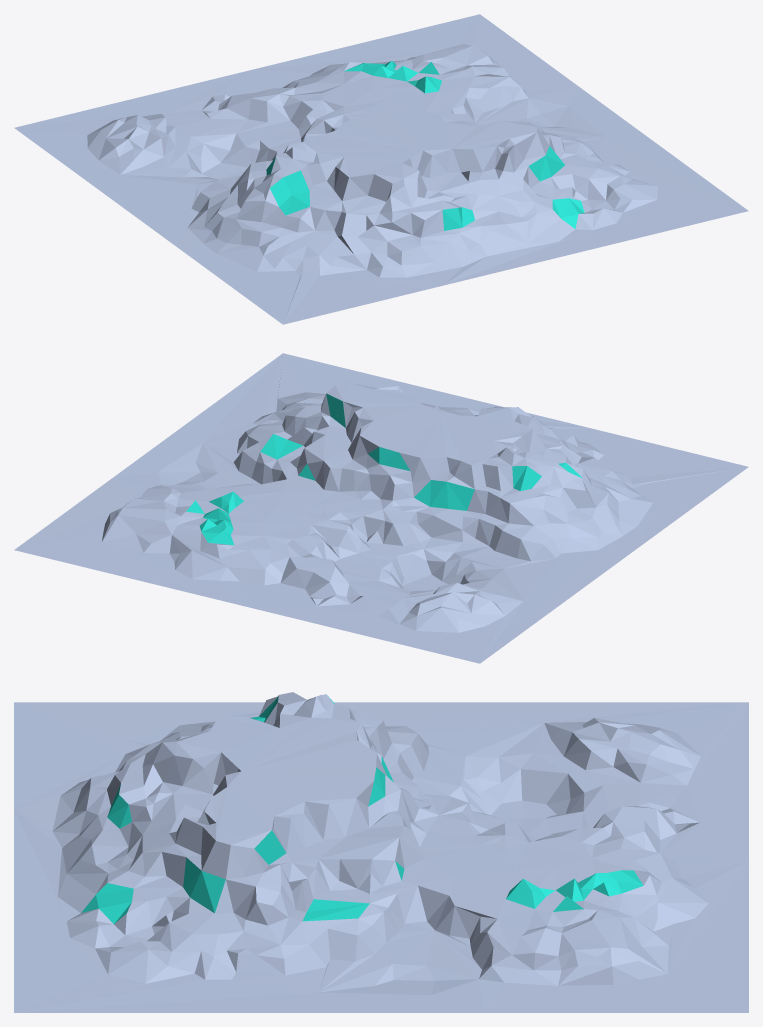
Rendered from IndustrialCityLandscape.fbx.
The picture shows the model from 3 angles, top to bottom: view 1: azimuth 30°, elevation 25°; view 2: azimuth 150°, elevation 25°; view 3: azimuth 270°, elevation 25°; orthographic projection. The views are drawn at different scales.
Parts seen in each view (by area): view 1: Landscape.002; view 2: Landscape.002; view 3: Landscape.002.
Boxes of the visible parts, bbox=[...] form: Landscape.002: bbox=[14, 14, 748, 324]; Landscape.002: bbox=[14, 353, 748, 663]; Landscape.002: bbox=[14, 692, 748, 1012].
Bounding box in the file's own units: 200 × 36.21 × 200.
